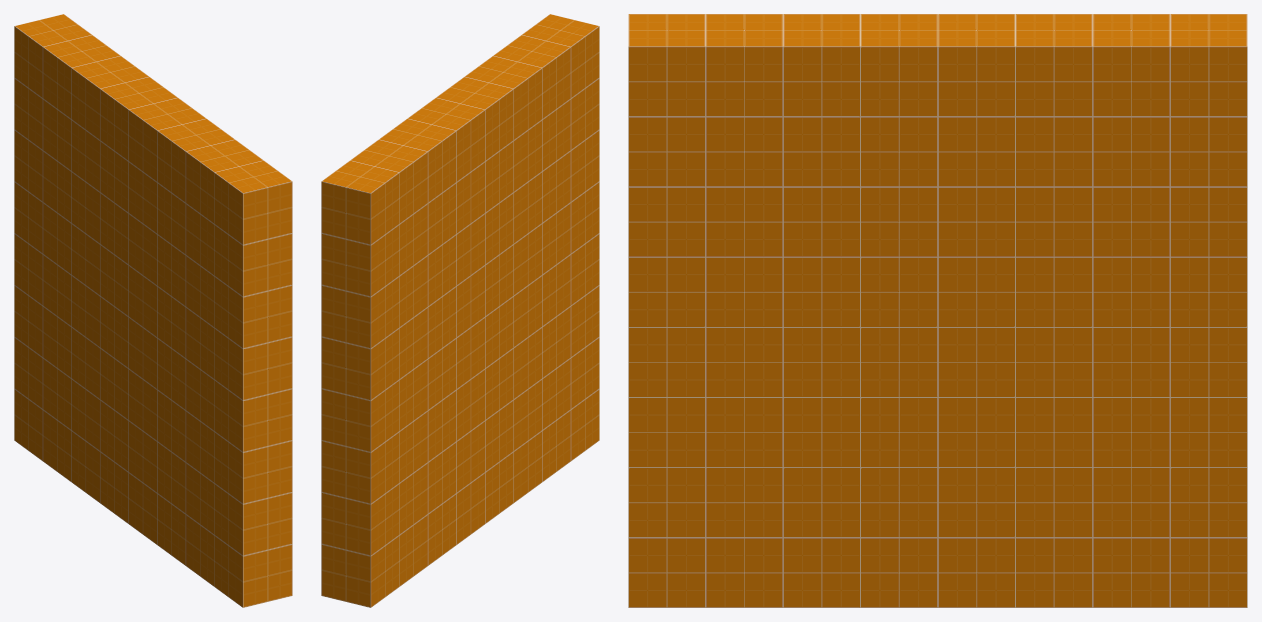
File: Block_1x8x8.obj
The picture shows the model from 3 angles, left to right: view 1: azimuth 30°, elevation 25°; view 2: azimuth 150°, elevation 25°; view 3: azimuth 270°, elevation 25°; orthographic projection. The views are drawn at different scales.
Visible parts, largest first — view 1: Block_1x8x8_Cube.155; view 2: Block_1x8x8_Cube.155; view 3: Block_1x8x8_Cube.155.
Part boxes in pixels (<box>): Block_1x8x8_Cube.155: <box>14,14,292,607</box>; Block_1x8x8_Cube.155: <box>321,14,599,607</box>; Block_1x8x8_Cube.155: <box>628,14,1247,607</box>.
Size of the model in its own units: 1 by 8 by 8.
1 material, 1 textured.
